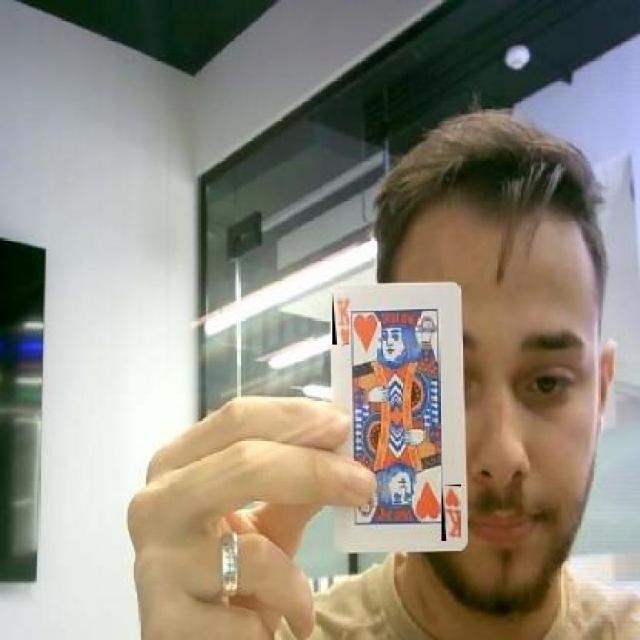KH: (442, 485, 460, 540), (332, 290, 350, 344)
